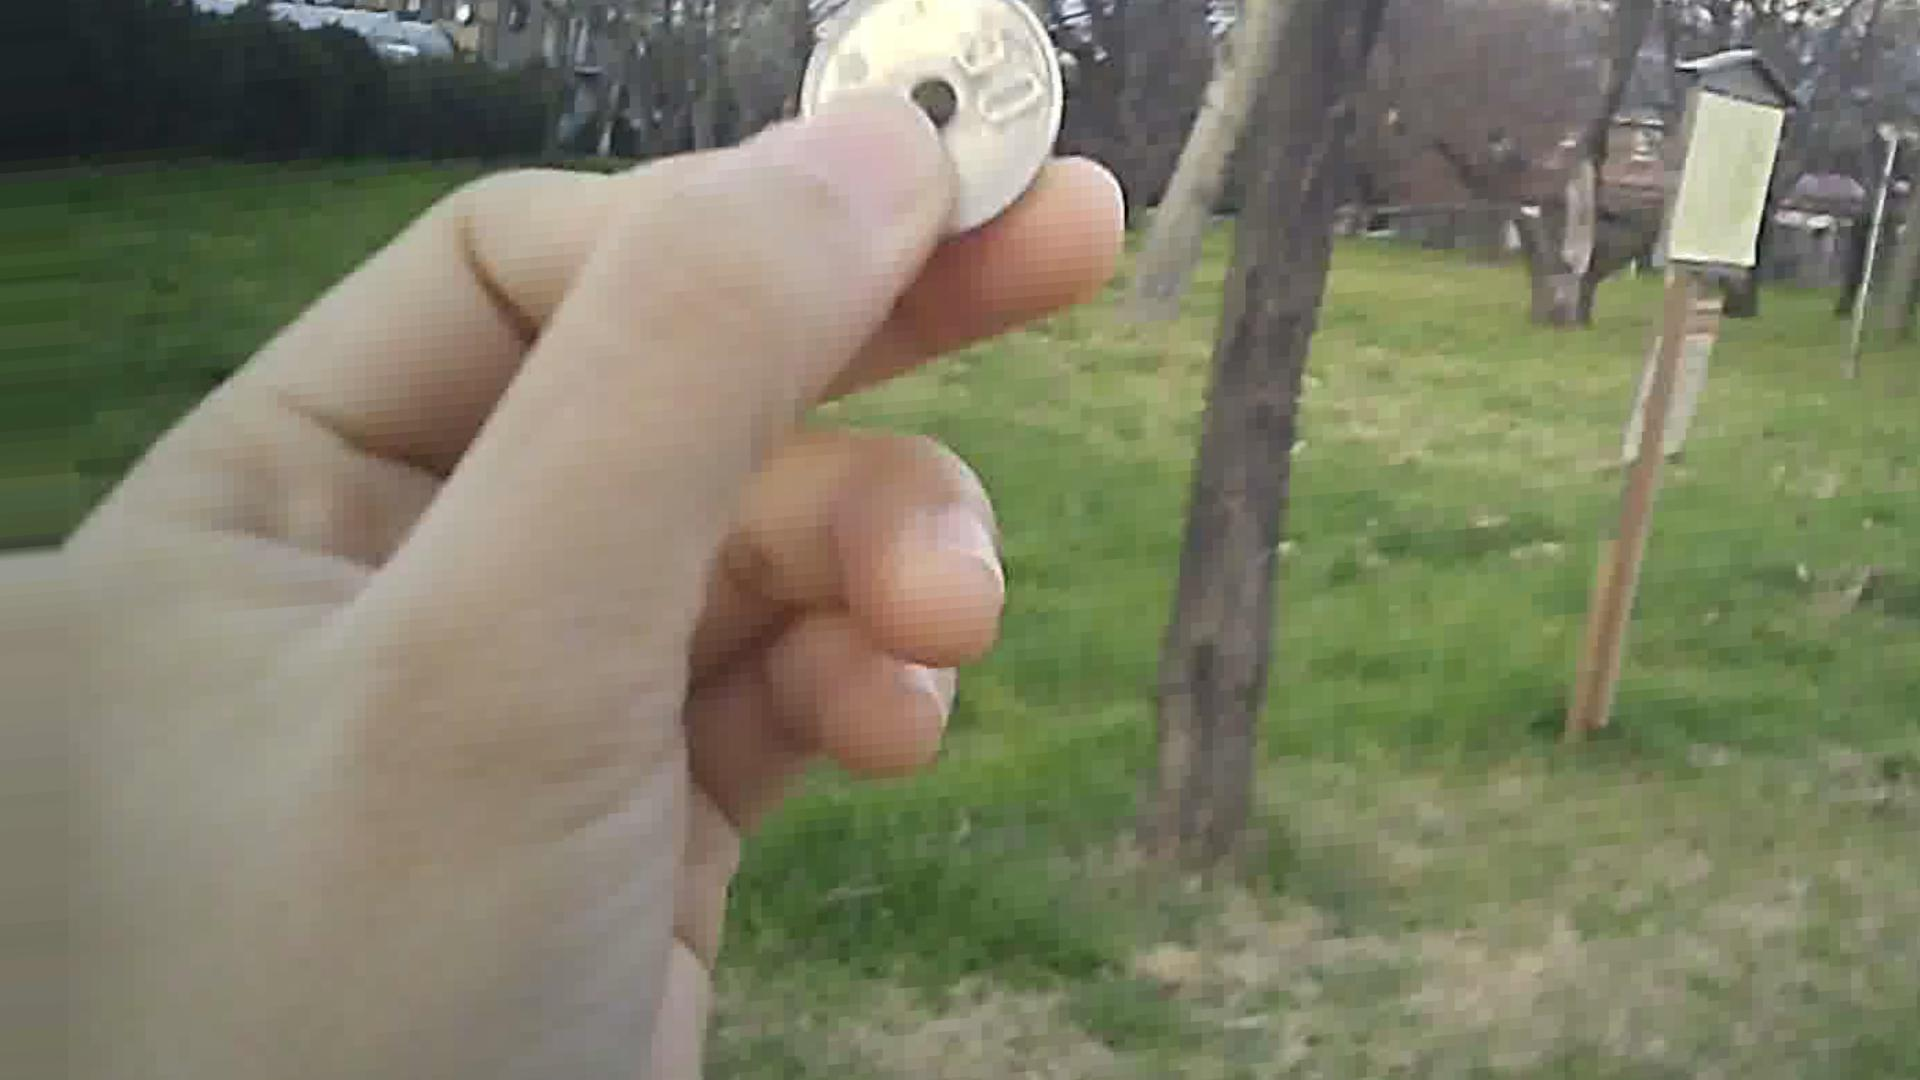50 Yen: (795, 9, 1088, 247)
